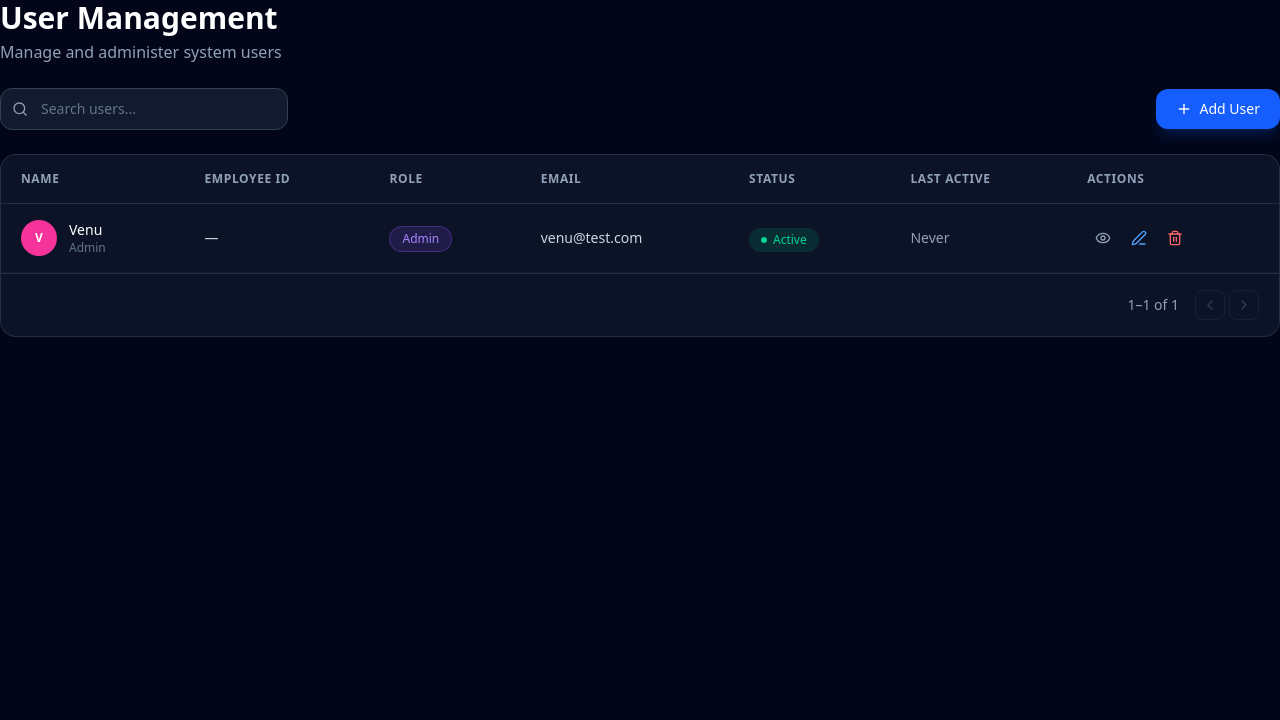
it: UserManagement Tests › should open add user modal
Click the button "Add User".
click(1218, 109)  # box x1=1156 y1=89 x2=1279 y2=129
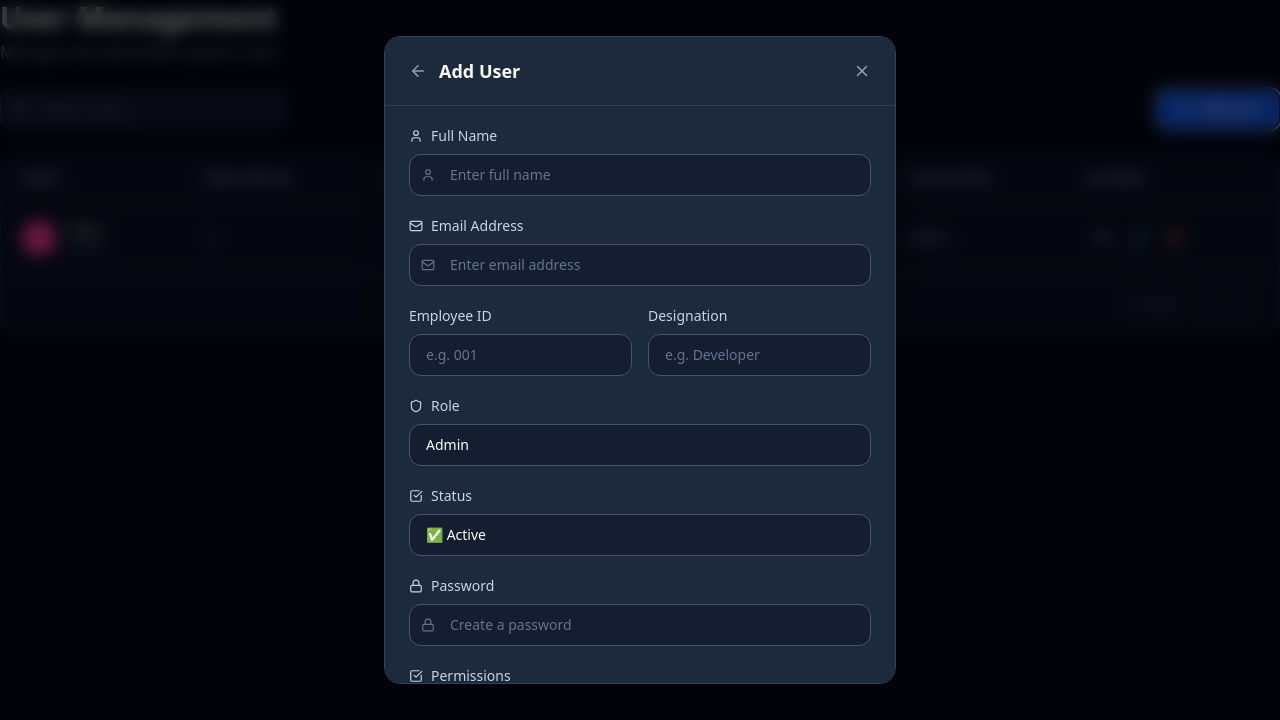
Expected: the field with placeholder "Enter full name" is shown, x1=409 y1=154 x2=871 y2=196
